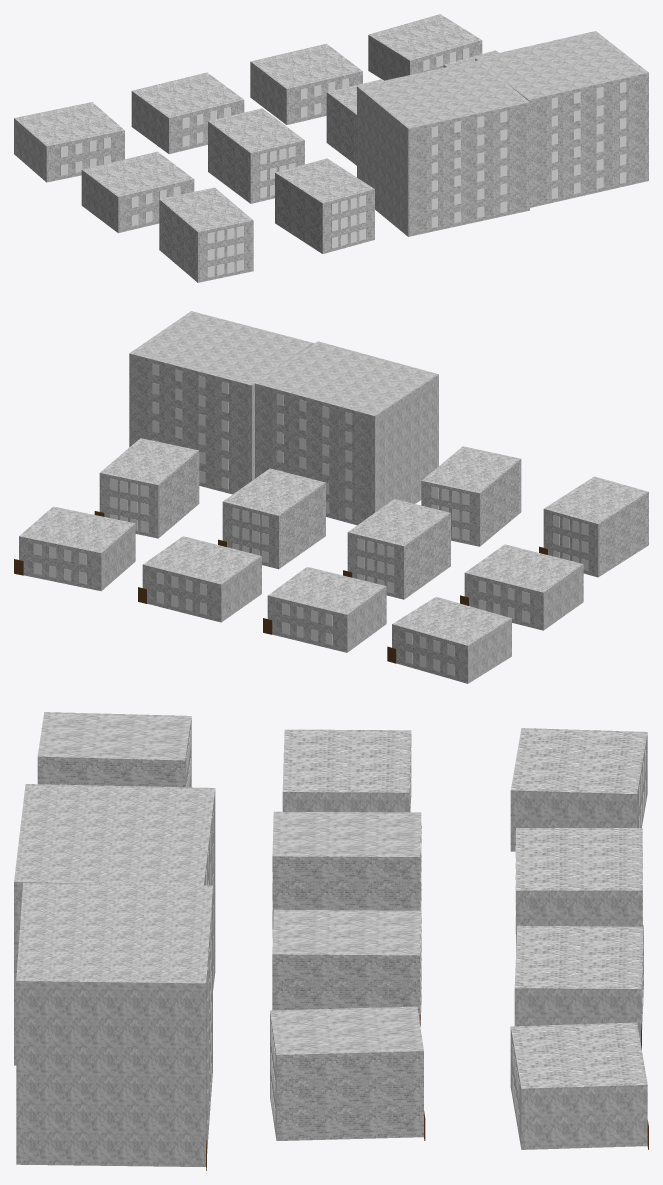
The model's file is bld_mlnew5s7_438cvmp.glb.
The picture shows the model from 3 angles, top to bottom: view 1: azimuth 30°, elevation 25°; view 2: azimuth 150°, elevation 25°; view 3: azimuth 270°, elevation 25°; orthographic projection. The views are drawn at different scales.
Visible parts, largest first — view 1: building-building-1771139758263-18, building-building-1771139758263-19, building-building-1771139758263-17, building-building-1771139758263-16, building-building-1771139758263-6, building-building-1771139758263-12, building-building-1771139758263-11, building-building-1771139758263-7, building-building-1771139758263-8, building-building-1771139758263-9, building-building-1771139758263-13; view 2: building-building-1771139758263-18, building-building-1771139758263-19, building-building-1771139758263-6, building-building-1771139758263-16, building-building-1771139758263-8, building-building-1771139758263-7, building-building-1771139758263-12, building-building-1771139758263-13, building-building-1771139758263-9, building-building-1771139758263-11, building-building-1771139758263-14, building-building-1771139758263-17; view 3: building-building-1771139758263-19, building-building-1771139758263-18, building-building-1771139758263-14, building-building-1771139758263-9, building-building-1771139758263-13, building-building-1771139758263-12, building-building-1771139758263-6, building-building-1771139758263-8, building-building-1771139758263-7, building-building-1771139758263-16, building-building-1771139758263-11.
Part boxes in pixels (left/top/right/bottom): building-building-1771139758263-18: left=357, top=60, right=529, bottom=236; building-building-1771139758263-19: left=475, top=31, right=648, bottom=207; building-building-1771139758263-17: left=275, top=158, right=374, bottom=253; building-building-1771139758263-16: left=159, top=187, right=253, bottom=282; building-building-1771139758263-6: left=14, top=102, right=124, bottom=182; building-building-1771139758263-12: left=208, top=108, right=304, bottom=203; building-building-1771139758263-11: left=81, top=151, right=194, bottom=233; building-building-1771139758263-7: left=131, top=72, right=244, bottom=154; building-building-1771139758263-8: left=250, top=43, right=362, bottom=124; building-building-1771139758263-9: left=368, top=14, right=482, bottom=80; building-building-1771139758263-13: left=326, top=79, right=382, bottom=165; building-building-1771139758263-18: left=254, top=341, right=438, bottom=525; building-building-1771139758263-19: left=129, top=311, right=313, bottom=494; building-building-1771139758263-6: left=387, top=596, right=511, bottom=683; building-building-1771139758263-16: left=539, top=476, right=648, bottom=577; building-building-1771139758263-8: left=138, top=536, right=261, bottom=622; building-building-1771139758263-7: left=263, top=567, right=386, bottom=652; building-building-1771139758263-12: left=343, top=499, right=450, bottom=599; building-building-1771139758263-13: left=218, top=468, right=325, bottom=569; building-building-1771139758263-9: left=14, top=506, right=135, bottom=591; building-building-1771139758263-11: left=460, top=544, right=583, bottom=630; building-building-1771139758263-14: left=94, top=438, right=199, bottom=538; building-building-1771139758263-17: left=421, top=446, right=521, bottom=546; building-building-1771139758263-19: left=16, top=883, right=212, bottom=1170; building-building-1771139758263-18: left=14, top=784, right=215, bottom=1065; building-building-1771139758263-14: left=270, top=1006, right=425, bottom=1140; building-building-1771139758263-9: left=510, top=1022, right=648, bottom=1149; building-building-1771139758263-13: left=272, top=909, right=421, bottom=1026; building-building-1771139758263-12: left=272, top=811, right=421, bottom=937; building-building-1771139758263-6: left=510, top=728, right=647, bottom=851; building-building-1771139758263-8: left=514, top=925, right=643, bottom=1049; building-building-1771139758263-7: left=516, top=828, right=643, bottom=950; building-building-1771139758263-16: left=37, top=712, right=191, bottom=787; building-building-1771139758263-11: left=282, top=729, right=411, bottom=812.
Bounding box in the file's own units: 85.48 × 19.23 × 60.14.
60 materials, 12 textured.
